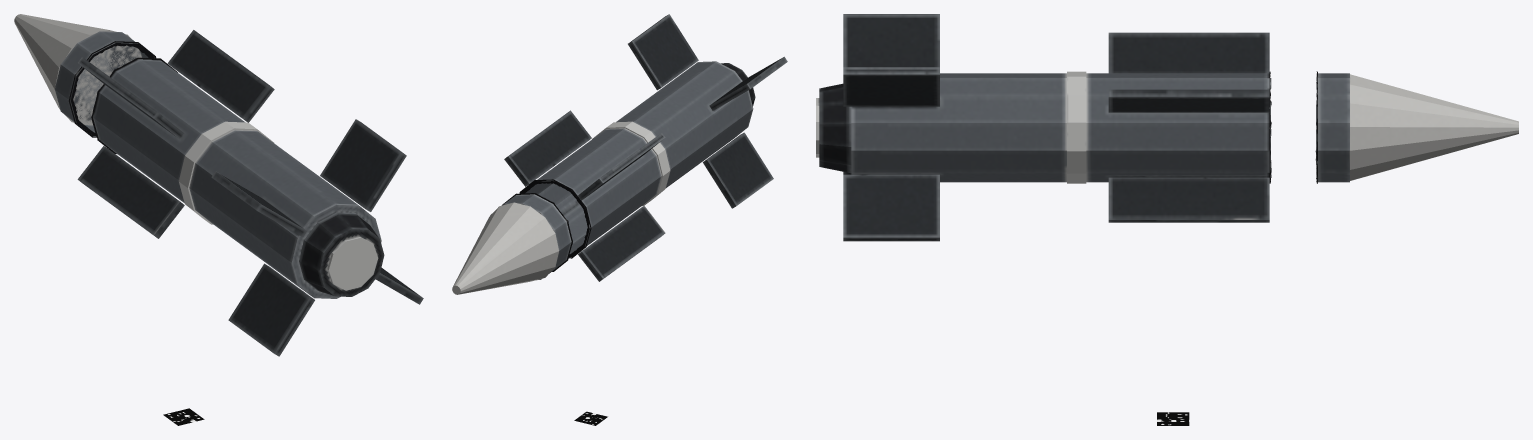
File: chs_radar_sam.fbx
3 views of the same model, side by side, from view 1: azimuth 30°, elevation 25°; view 2: azimuth 150°, elevation 25°; view 3: azimuth 270°, elevation 25° (orthographic). The views are drawn at different scales.
Parts seen in each view (by area): view 1: base_bar, base_glow_weapon_bar, base_glow_running_bar, emissive_probe; view 2: base_bar, base_glow_running_bar; view 3: base_bar, base_glow_running_bar.
Boxes of the visible parts, bbox=[...] form: base_bar: bbox=[14, 14, 423, 356]; base_glow_weapon_bar: bbox=[327, 236, 378, 290]; base_glow_running_bar: bbox=[179, 121, 274, 224]; emissive_probe: bbox=[163, 408, 204, 425]; base_bar: bbox=[452, 14, 787, 294]; base_glow_running_bar: bbox=[592, 121, 670, 205]; base_bar: bbox=[819, 14, 1518, 241]; base_glow_running_bar: bbox=[1067, 71, 1086, 183].
Bounding box in the file's own units: 126 × 263 × 437.
Materials: 2 (2 with a texture image).
